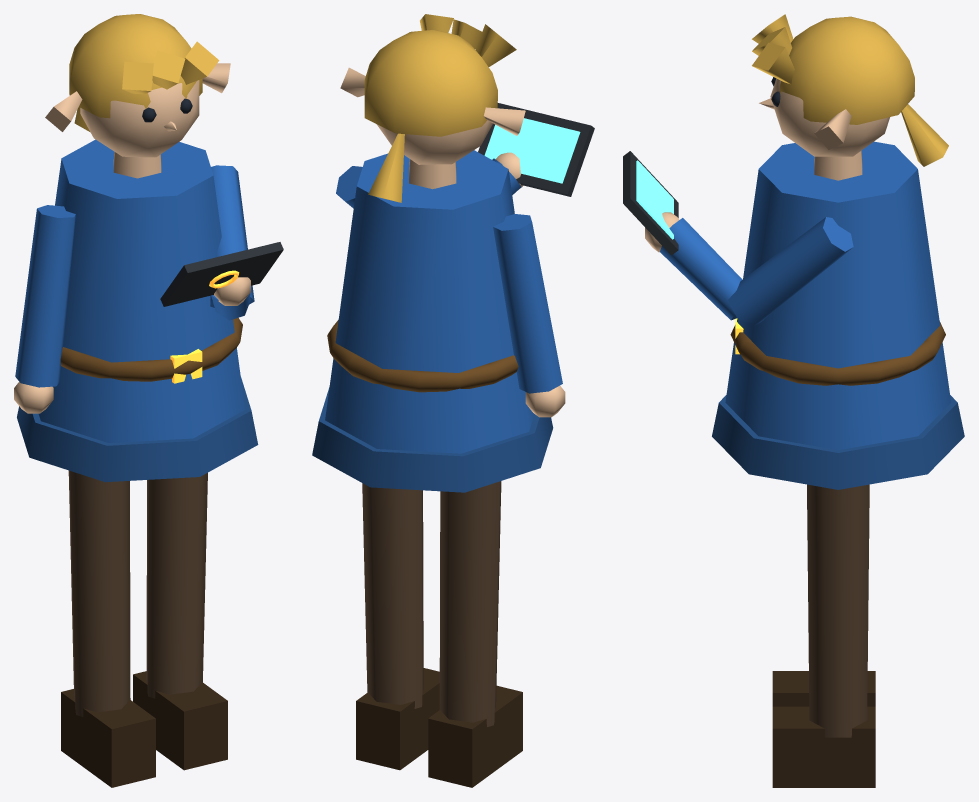
File: arthur-stand.glb
3 views of the same model, side by side, from view 1: azimuth 30°, elevation 25°; view 2: azimuth 150°, elevation 25°; view 3: azimuth 270°, elevation 25° (orthographic).
Size of the model in its own units: 0.5784 by 1.74 by 0.7292.
